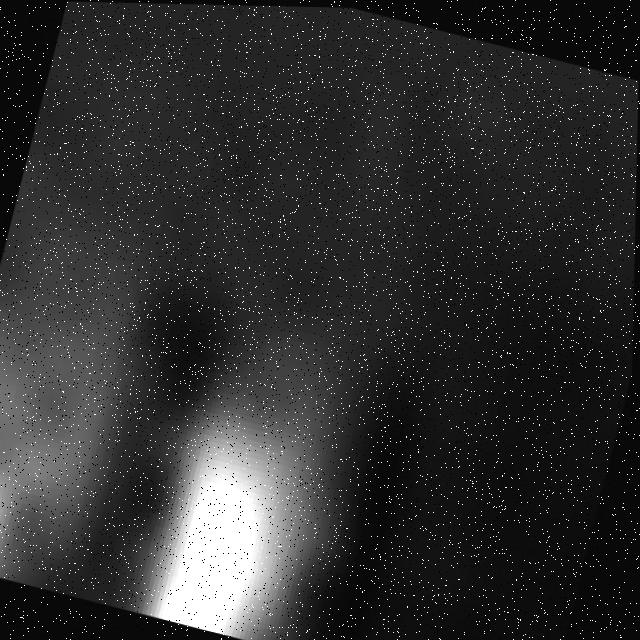person: (127, 297, 390, 640), (1, 188, 180, 600)
